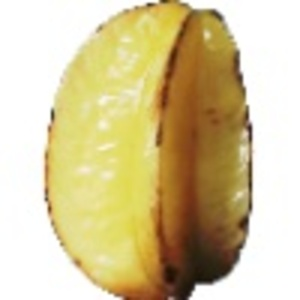carambola: (41, 1, 256, 300)
